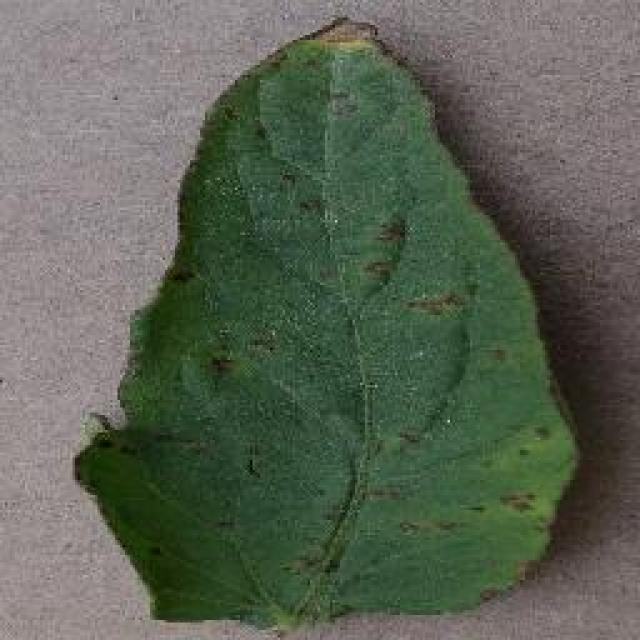Tomato bacterial spot leaf: (90, 10, 580, 620)
